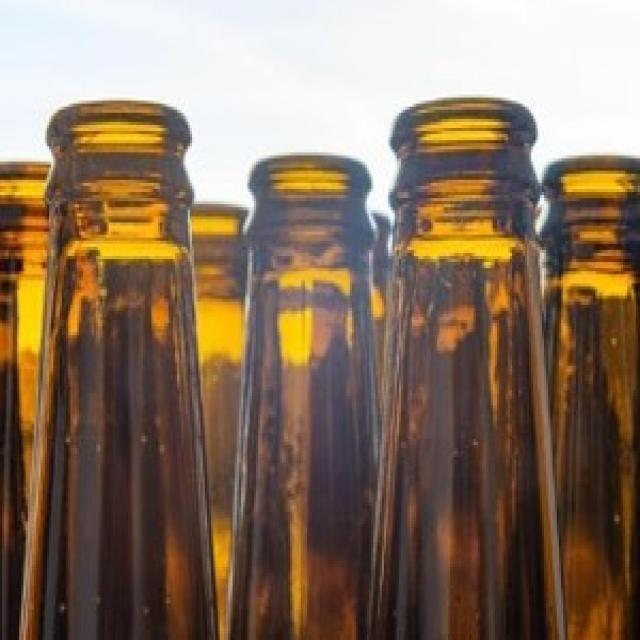electronic: (18, 96, 225, 640), (368, 94, 572, 640)
